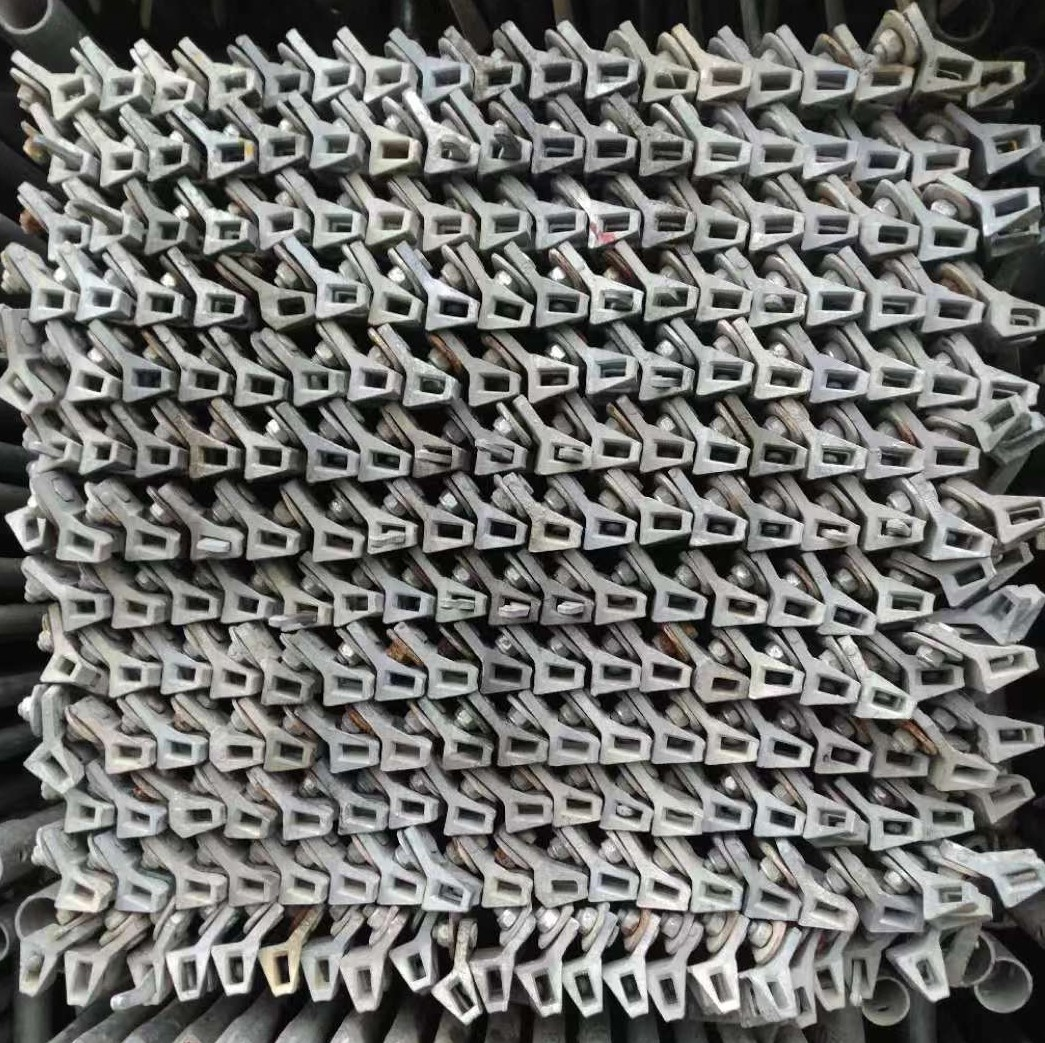sigma_steel: (977, 123, 1044, 178), (975, 188, 1045, 240), (988, 853, 1045, 909), (968, 58, 1025, 113), (915, 54, 981, 101), (988, 496, 1045, 547), (978, 587, 1027, 645), (341, 955, 388, 1015), (466, 955, 513, 1014), (939, 561, 999, 607), (899, 949, 951, 1002), (972, 649, 1037, 691), (800, 68, 859, 114), (858, 63, 915, 110), (692, 962, 743, 1014), (862, 441, 925, 482), (854, 679, 915, 721), (692, 135, 750, 179), (858, 219, 920, 260), (912, 145, 975, 185), (869, 288, 925, 333), (804, 364, 867, 404), (432, 972, 480, 1024), (297, 947, 341, 1003), (799, 208, 859, 249), (639, 132, 688, 182), (27, 744, 75, 795), (532, 132, 584, 179), (926, 296, 984, 338), (566, 960, 608, 1018), (694, 210, 748, 255), (60, 952, 104, 1007), (930, 520, 989, 561), (921, 224, 977, 267), (757, 361, 813, 404), (477, 290, 534, 332), (808, 286, 865, 328), (605, 960, 647, 1017), (424, 290, 477, 335), (533, 207, 587, 251), (803, 137, 858, 180), (698, 282, 753, 325), (976, 374, 1038, 412), (46, 73, 94, 122), (984, 779, 1040, 821), (528, 56, 579, 102), (533, 288, 590, 329), (308, 206, 363, 248), (640, 432, 695, 474), (522, 962, 564, 1017), (709, 591, 768, 630), (801, 669, 863, 706), (165, 950, 209, 1002), (314, 280, 371, 320), (856, 144, 910, 186), (466, 366, 520, 408), (987, 722, 1045, 761), (766, 593, 825, 631), (749, 208, 802, 250), (798, 894, 858, 931), (749, 67, 803, 108), (991, 301, 1045, 342), (801, 798, 855, 839), (876, 586, 934, 624), (205, 138, 255, 182), (421, 208, 472, 251), (345, 362, 396, 405), (642, 207, 694, 249), (256, 291, 315, 328), (751, 138, 804, 179), (638, 503, 691, 544), (54, 590, 107, 631), (812, 738, 869, 776), (584, 136, 638, 176), (364, 202, 413, 246), (420, 62, 470, 105), (587, 56, 637, 99), (939, 756, 997, 793), (475, 210, 530, 249), (698, 357, 753, 396), (588, 208, 639, 250), (304, 443, 355, 485), (806, 957, 848, 1008), (259, 947, 300, 999), (214, 946, 255, 998), (925, 370, 978, 410), (752, 968, 795, 1017), (310, 133, 360, 175), (191, 286, 242, 327), (378, 731, 429, 772), (692, 438, 750, 474), (906, 664, 964, 700), (367, 138, 419, 178), (529, 515, 581, 555), (652, 589, 708, 626), (582, 866, 638, 903), (653, 966, 690, 1022), (392, 944, 435, 992), (642, 65, 699, 101), (277, 805, 331, 843), (475, 62, 525, 103), (584, 353, 634, 394), (254, 132, 305, 172), (205, 733, 260, 770), (748, 885, 800, 924), (357, 64, 413, 100), (870, 900, 926, 936), (752, 663, 805, 701), (495, 730, 548, 768), (51, 877, 104, 915), (591, 430, 641, 470), (755, 735, 812, 770), (205, 68, 256, 107), (651, 730, 706, 766), (529, 873, 589, 906), (869, 365, 921, 403), (242, 442, 294, 480), (357, 443, 407, 482), (921, 878, 971, 917), (528, 661, 587, 694), (823, 601, 877, 637), (372, 668, 426, 704), (594, 589, 645, 627), (691, 877, 742, 915), (479, 656, 531, 693), (922, 803, 974, 840), (702, 63, 750, 103), (233, 369, 282, 408), (924, 444, 977, 480), (255, 210, 305, 248), (641, 875, 691, 913), (327, 736, 378, 773), (201, 217, 249, 256), (421, 517, 473, 553), (439, 735, 491, 771), (703, 732, 755, 768), (441, 802, 493, 838), (127, 524, 176, 562), (601, 728, 650, 766), (547, 731, 597, 768), (64, 365, 110, 405), (175, 873, 221, 913), (242, 528, 296, 562), (53, 528, 104, 564), (549, 792, 601, 827), (500, 796, 552, 831), (188, 440, 234, 479), (133, 289, 180, 327), (331, 588, 378, 626), (320, 671, 371, 706), (263, 738, 314, 773), (876, 744, 927, 779), (698, 798, 752, 831), (371, 873, 425, 906), (145, 77, 193, 114), (180, 366, 228, 403), (788, 969, 818, 1028), (373, 292, 422, 328), (651, 801, 701, 836), (98, 73, 144, 111), (123, 363, 169, 401), (428, 876, 474, 914), (266, 70, 313, 107), (257, 672, 308, 706), (104, 661, 152, 697), (101, 145, 142, 187), (4, 512, 46, 553), (589, 661, 641, 694), (473, 513, 522, 548), (110, 597, 160, 631), (222, 808, 272, 842), (100, 740, 153, 772), (427, 664, 475, 699), (46, 219, 89, 258), (223, 875, 275, 907), (757, 801, 803, 837), (171, 591, 218, 626), (149, 141, 190, 181), (338, 799, 389, 831), (170, 801, 217, 835), (112, 879, 159, 913), (329, 872, 376, 906), (30, 286, 72, 324), (39, 650, 87, 683), (642, 662, 693, 693), (153, 735, 198, 770), (218, 593, 267, 625), (478, 878, 532, 907), (146, 216, 187, 254), (160, 660, 204, 695), (315, 65, 360, 99), (208, 668, 254, 701), (279, 873, 325, 906), (314, 529, 362, 560), (701, 672, 749, 703), (77, 288, 121, 321), (117, 806, 160, 839), (135, 442, 175, 477), (78, 439, 117, 474), (387, 591, 428, 624), (392, 794, 437, 824), (60, 802, 101, 832)
sigma_steel_blocked: (862, 508, 923, 552), (583, 285, 642, 328), (640, 281, 700, 323), (689, 505, 744, 549), (805, 441, 868, 479), (639, 358, 693, 402), (426, 133, 479, 177), (400, 367, 454, 410), (865, 808, 917, 852), (524, 362, 577, 405), (798, 515, 859, 552), (576, 512, 635, 550), (125, 951, 166, 1005), (756, 288, 807, 331), (747, 440, 806, 477), (1, 362, 41, 416), (480, 136, 532, 177), (539, 437, 592, 477), (743, 511, 797, 549), (472, 439, 524, 478), (19, 941, 53, 999), (190, 527, 242, 564), (364, 518, 417, 554), (289, 368, 337, 406), (413, 443, 463, 478), (844, 949, 881, 996), (44, 151, 95, 185), (489, 591, 538, 626), (601, 797, 650, 832), (543, 594, 593, 628), (437, 588, 482, 624), (89, 216, 130, 252), (33, 437, 74, 471), (279, 600, 322, 632)
